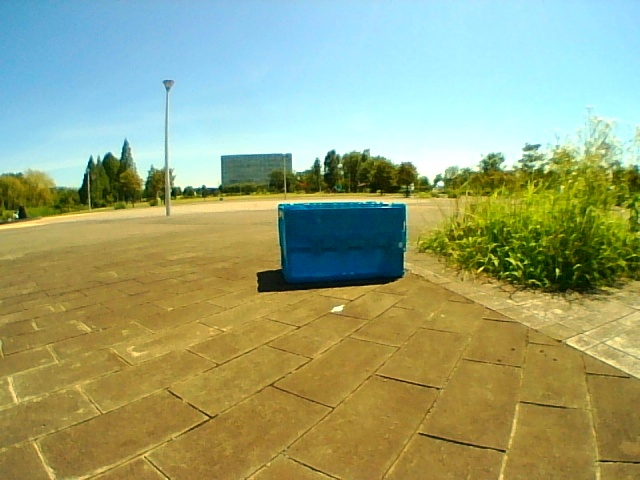blue_box: (282, 205, 404, 275)
